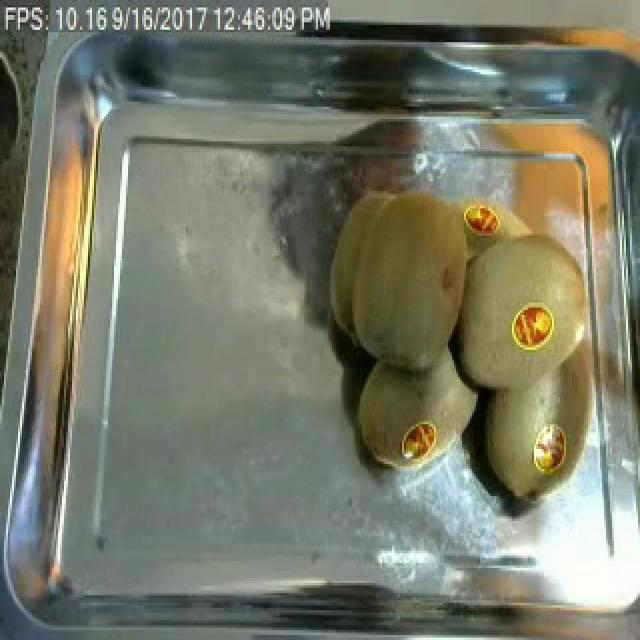Fruit: (310, 173, 490, 380), (346, 348, 486, 482), (504, 298, 564, 357)
